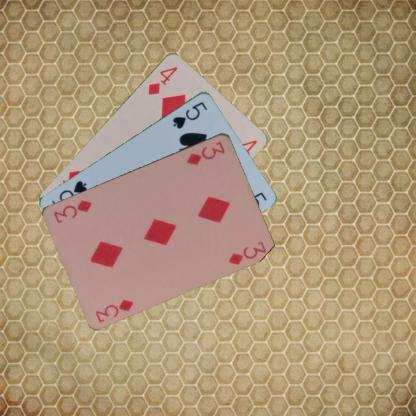3d: (183, 138, 227, 166), (93, 296, 136, 323)
4d: (145, 64, 179, 96)
5s: (170, 98, 208, 130)
